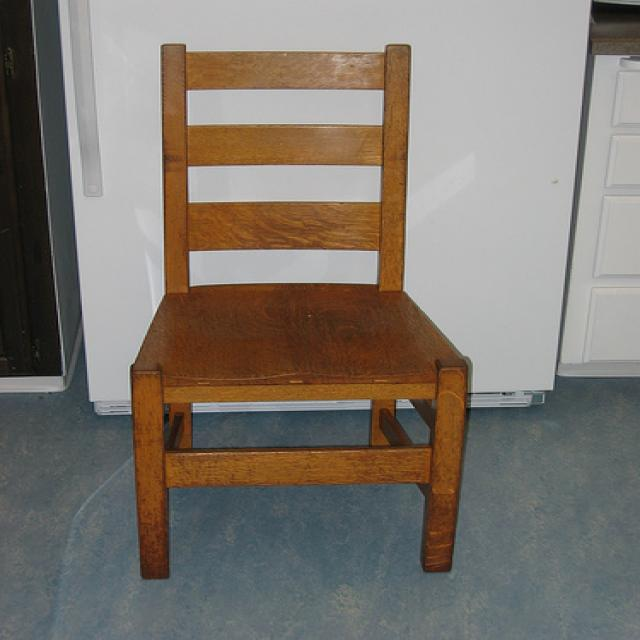chair: (128, 41, 471, 579)
